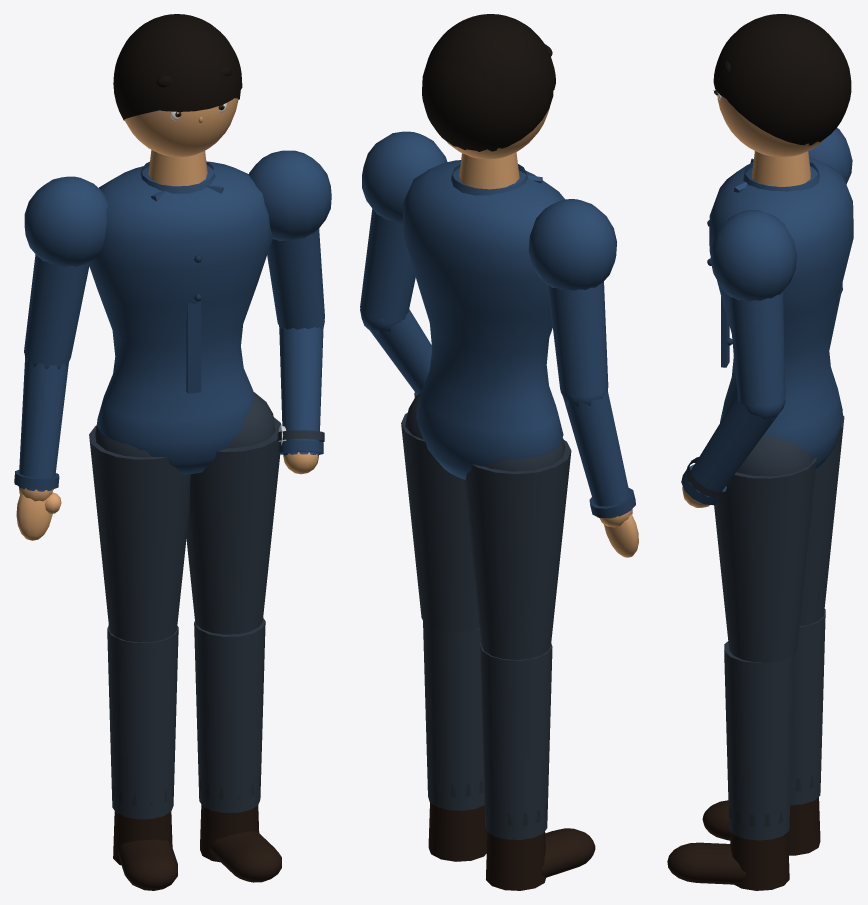
Rendered from 01-bima.glb.
The picture shows the model from 3 angles, left to right: view 1: azimuth 30°, elevation 25°; view 2: azimuth 150°, elevation 25°; view 3: azimuth 270°, elevation 25°; orthographic projection.
Visible parts, largest first — view 1: Bima, skull, elbow (×2), armR, armL; view 2: Bima, skull, armR, elbow (×2), armL; view 3: Bima, skull, armL, elbow, armR.
Boxes of the visible parts, bbox=[...] form: Bima: bbox=[89, 150, 281, 890]; skull: bbox=[113, 14, 242, 156]; elbow (×2): bbox=[14, 320, 324, 540]; armR: bbox=[24, 176, 107, 365]; armL: bbox=[248, 150, 331, 329]; Bima: bbox=[401, 152, 595, 890]; skull: bbox=[422, 14, 555, 159]; armR: bbox=[528, 199, 616, 396]; elbow (×2): bbox=[360, 309, 638, 557]; armL: bbox=[360, 131, 447, 322]; Bima: bbox=[667, 151, 853, 890]; skull: bbox=[713, 14, 851, 156]; armL: bbox=[710, 210, 796, 405]; elbow: bbox=[681, 395, 785, 507]; armR: bbox=[808, 128, 852, 292].
Size of the model in its own units: 0.6078 by 1.69 by 0.3393.
